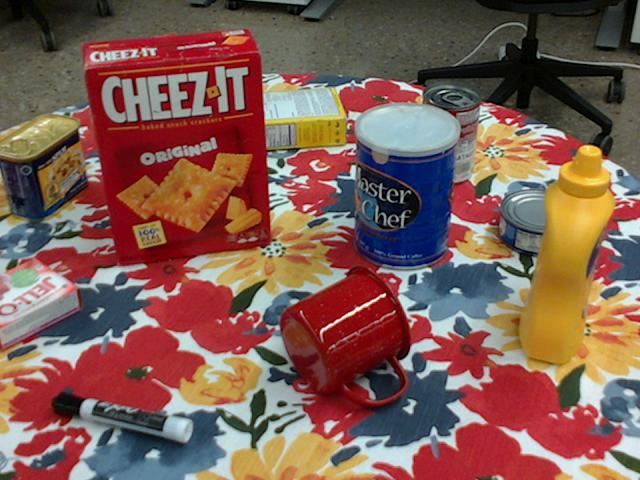cracker_box: (81, 29, 268, 262)
gelatin_box: (0, 258, 82, 351)
large_marker: (51, 390, 192, 442)
master_chef_can: (354, 103, 460, 272)
mug: (280, 265, 414, 406)
mustard_bottle: (518, 145, 613, 364)
potted_meat_can: (0, 112, 85, 220)
sugar_box: (200, 88, 345, 154)
tomato_soup_can: (418, 83, 480, 186)
tuna_fish_can: (498, 191, 582, 258)
